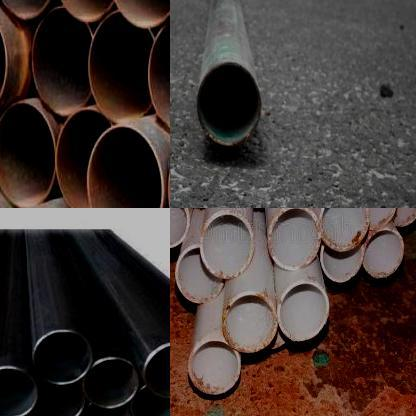pipe: (88, 12, 156, 121), (29, 5, 92, 120), (86, 123, 165, 208), (0, 100, 60, 208), (197, 60, 262, 148), (56, 106, 111, 208), (199, 210, 254, 279), (222, 291, 278, 353), (268, 208, 321, 270), (33, 332, 93, 386), (146, 8, 170, 142), (278, 280, 330, 341), (175, 244, 224, 304), (188, 340, 240, 394), (82, 358, 138, 408), (319, 208, 369, 251), (362, 228, 404, 278), (105, 0, 170, 30), (320, 240, 364, 283), (0, 367, 37, 416), (34, 382, 84, 416), (51, 0, 116, 23), (143, 343, 170, 398), (129, 386, 170, 416), (360, 208, 398, 230), (170, 208, 189, 249), (79, 403, 130, 416), (392, 208, 416, 226)
